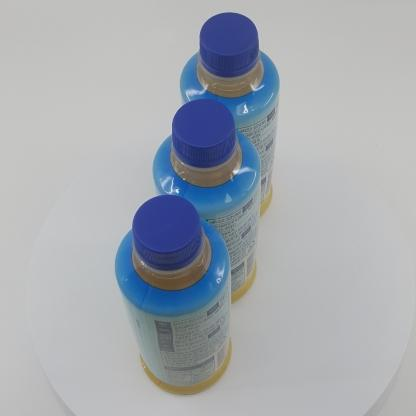----------280ml: (115, 194, 232, 394)
